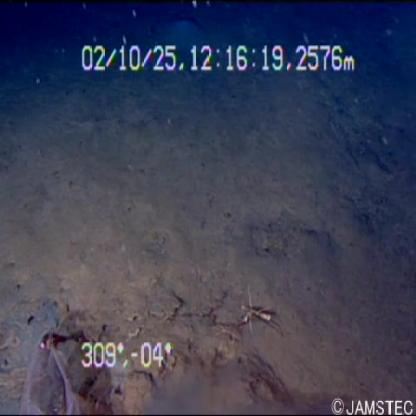Rác: (12, 323, 81, 416)
